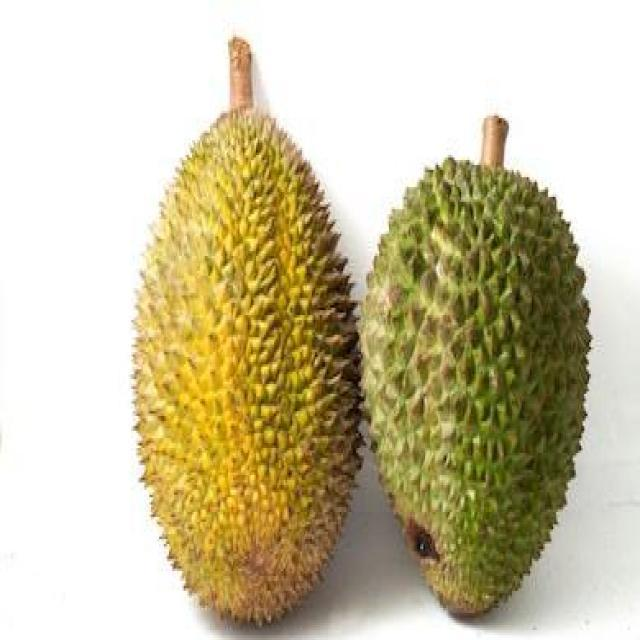mature: (134, 111, 361, 622)
